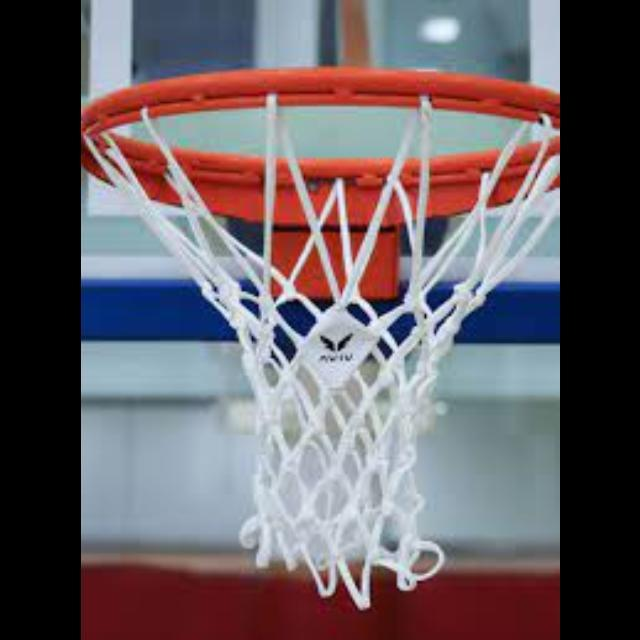rim: (80, 67, 560, 593)
